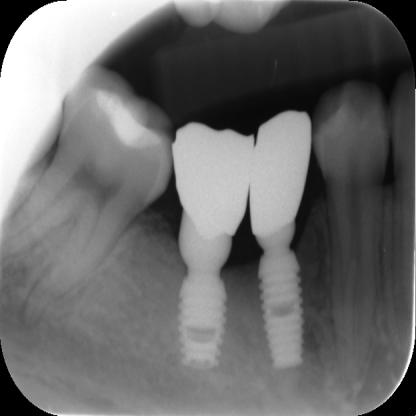Bicon: (181, 210, 235, 372), (256, 228, 310, 368)
